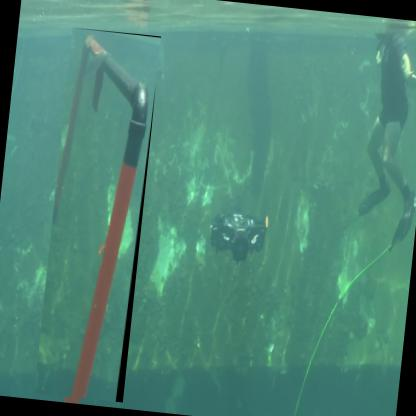gate: (35, 28, 163, 405)
